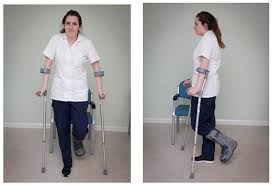crutches: (36, 9, 108, 176), (180, 11, 237, 179)
